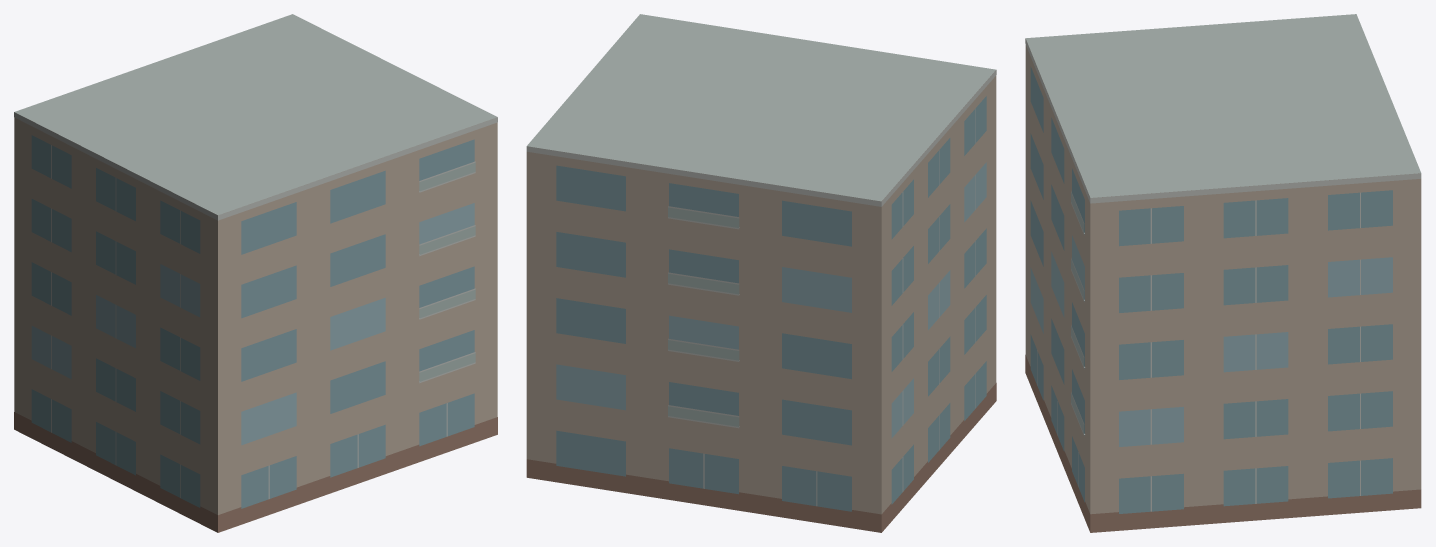
The model's file is survey-upis-32562472.glb.
The picture shows the model from 3 angles, left to right: view 1: azimuth 30°, elevation 25°; view 2: azimuth 150°, elevation 25°; view 3: azimuth 270°, elevation 25°; orthographic projection. The views are drawn at different scales.
Visible parts, largest first — view 1: survey-upis-32562472.tmp; view 2: survey-upis-32562472.tmp; view 3: survey-upis-32562472.tmp.
Boxes of the visible parts, x1=… form: survey-upis-32562472.tmp: x1=14, y1=14, x2=497, y2=532; survey-upis-32562472.tmp: x1=526, y1=14, x2=996, y2=532; survey-upis-32562472.tmp: x1=1025, y1=14, x2=1421, y2=532.
Size of the model in its own units: 17.33 by 14.7 by 15.76.
